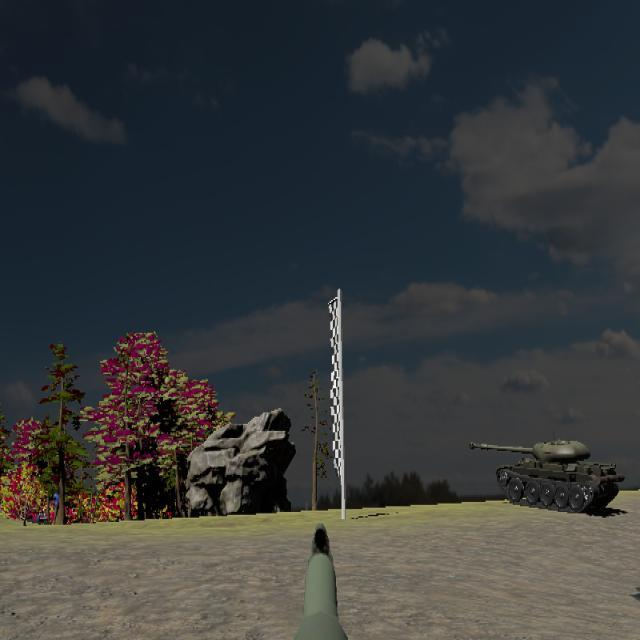Tank: (470, 437, 626, 515)
